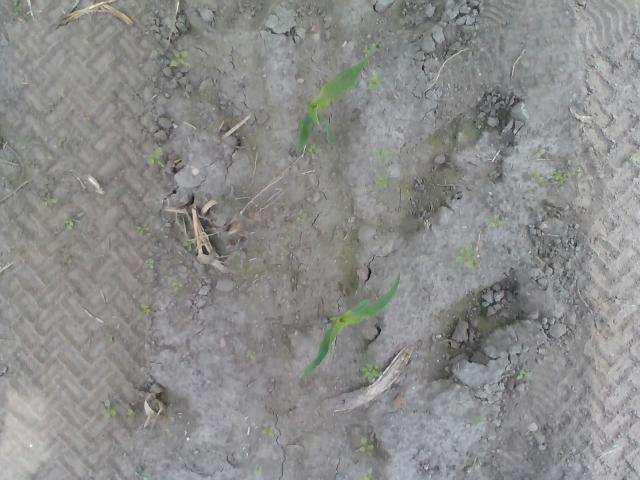Maize: (298, 268, 404, 384), (296, 45, 376, 152)
Weeds: (529, 166, 567, 194), (454, 240, 480, 274), (358, 361, 382, 384), (168, 46, 190, 69), (357, 434, 376, 456), (374, 148, 400, 162), (40, 191, 61, 208), (146, 146, 162, 165), (102, 399, 118, 418), (374, 174, 391, 191), (64, 214, 78, 232), (138, 303, 152, 320), (369, 72, 382, 90), (363, 467, 379, 480), (180, 239, 194, 253), (260, 423, 273, 437), (142, 256, 155, 270), (515, 369, 530, 381), (296, 209, 308, 224), (136, 223, 148, 237), (305, 144, 321, 154), (172, 280, 183, 292), (14, 0, 22, 16), (492, 214, 502, 226), (245, 350, 255, 360), (363, 49, 370, 57)
